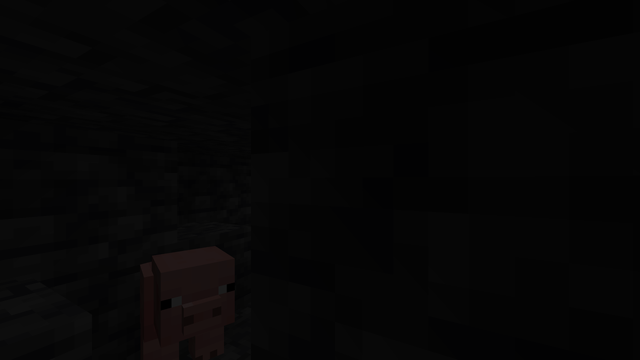cochons: (124, 242, 243, 358)
